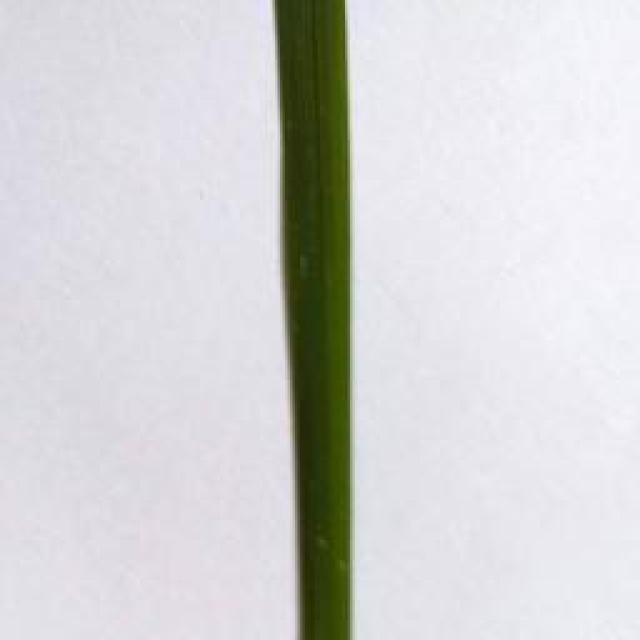Healthy-Plant: (266, 0, 364, 640)
